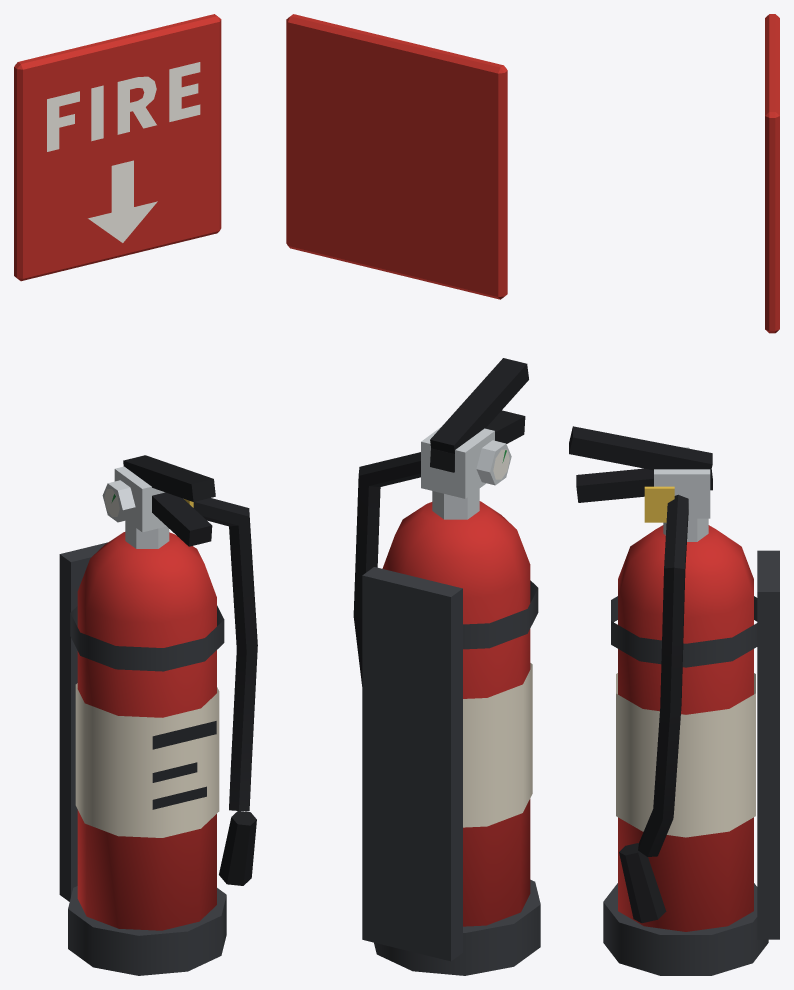
Rendered from Shop_FireExtinguisher.fbx.
3 views of the same model, side by side, from view 1: azimuth 30°, elevation 25°; view 2: azimuth 150°, elevation 25°; view 3: azimuth 270°, elevation 25° (orthographic). The views are drawn at different scales.
Parts seen in each view (by area): view 1: Sign, Body, Bracket, Label, Hose, SignText, Valve, LabelPrint; view 2: Sign, Bracket, Body, Hose, Label, Valve; view 3: Body, Bracket, Hose, Label, Sign, Valve, PinTag.
Boxes of the visible parts, x1,y1,x2,y2 form: Sign: (14, 14, 221, 281); Body: (77, 532, 216, 930); Bracket: (59, 542, 226, 975); Label: (75, 683, 219, 837); Hose: (123, 455, 257, 885); SignText: (47, 62, 200, 242); Valve: (102, 466, 169, 548); LabelPrint: (152, 721, 216, 809); Sign: (286, 14, 507, 299); Bracket: (362, 567, 540, 975); Body: (382, 501, 530, 926); Hose: (353, 358, 528, 686); Label: (463, 663, 532, 827); Valve: (421, 426, 511, 519); Body: (618, 525, 753, 931); Bracket: (603, 550, 779, 975); Hose: (569, 426, 712, 923); Label: (616, 673, 755, 837); Sign: (765, 14, 779, 333); Valve: (654, 447, 710, 541); PinTag: (644, 486, 674, 522).
Bounding box in the file's own units: 64 × 260 × 56.1.
